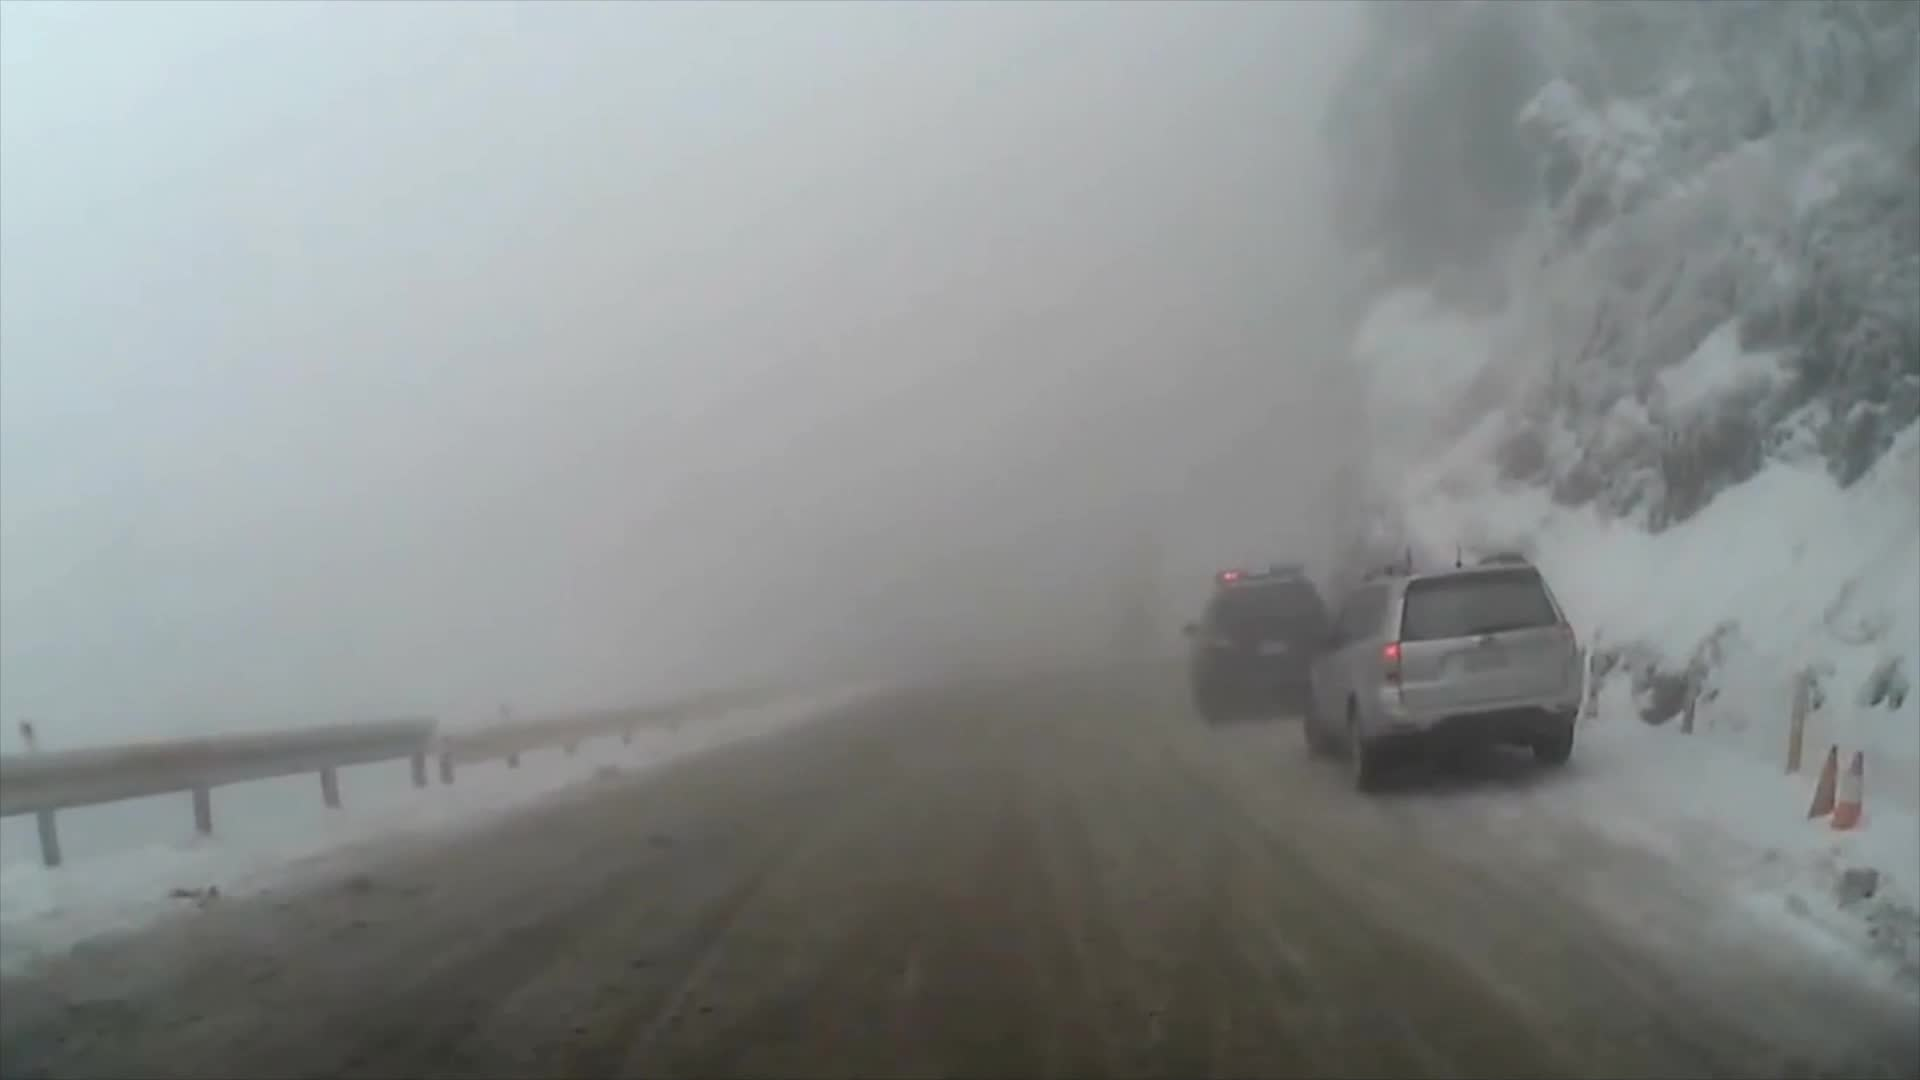vehicle: (1298, 549, 1584, 796), (1182, 556, 1340, 721)
